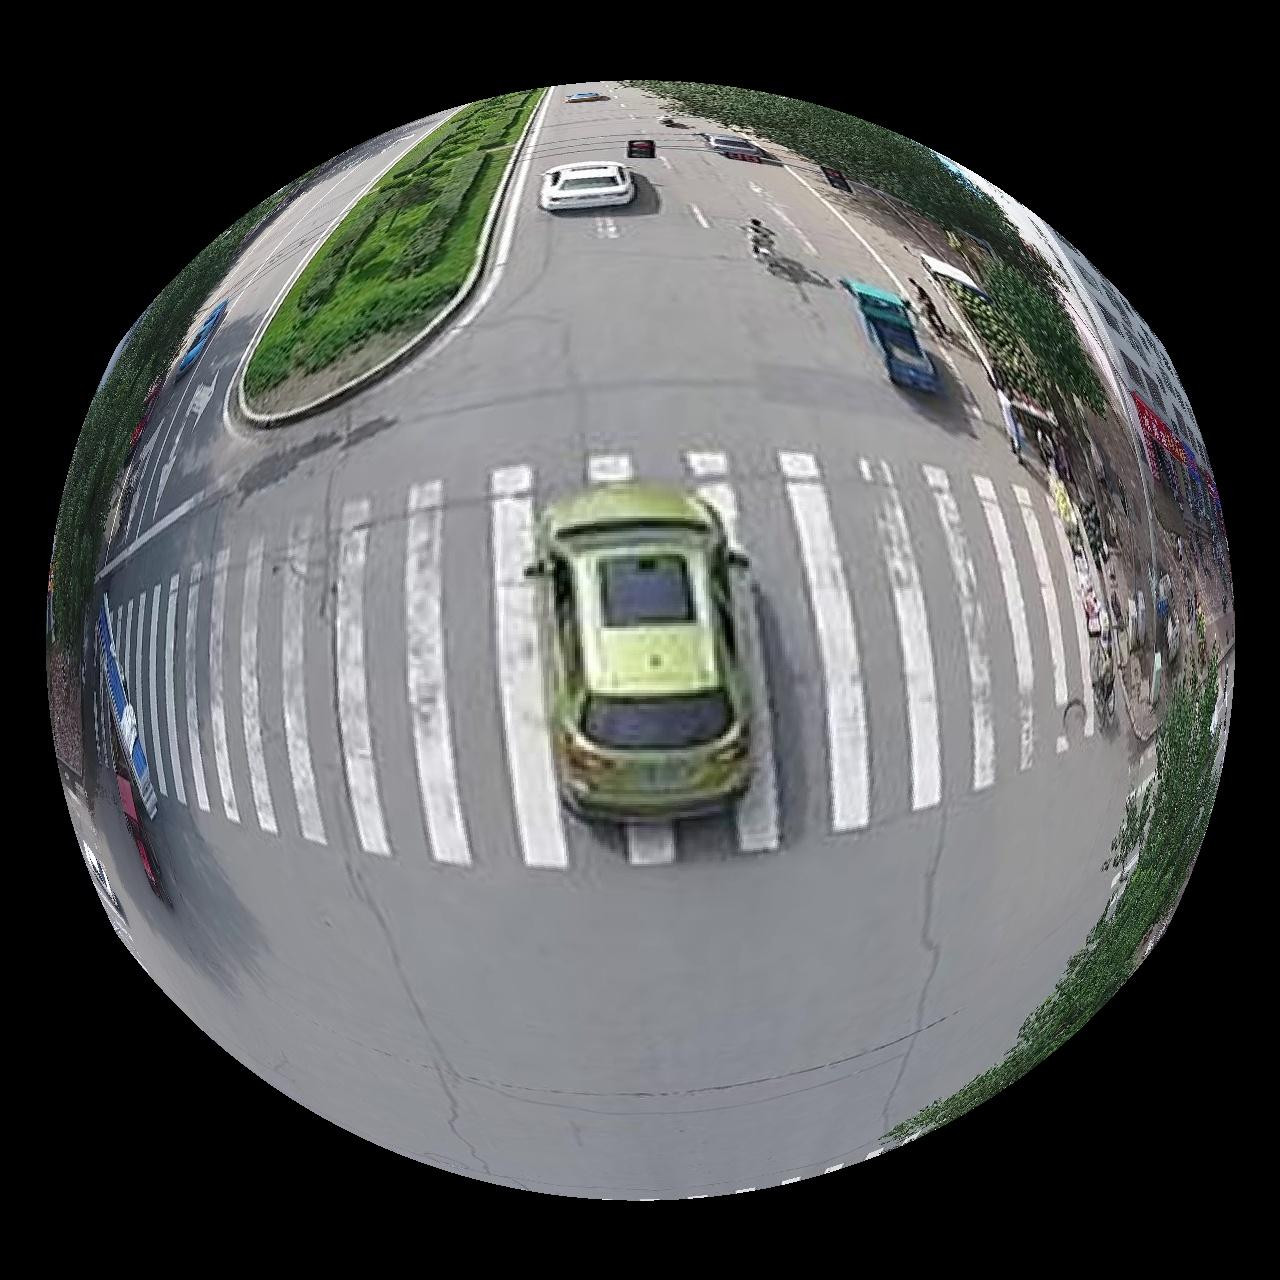cars: (542, 483, 753, 822), (844, 281, 939, 392), (542, 159, 636, 209)
trees: (241, 90, 543, 418)
